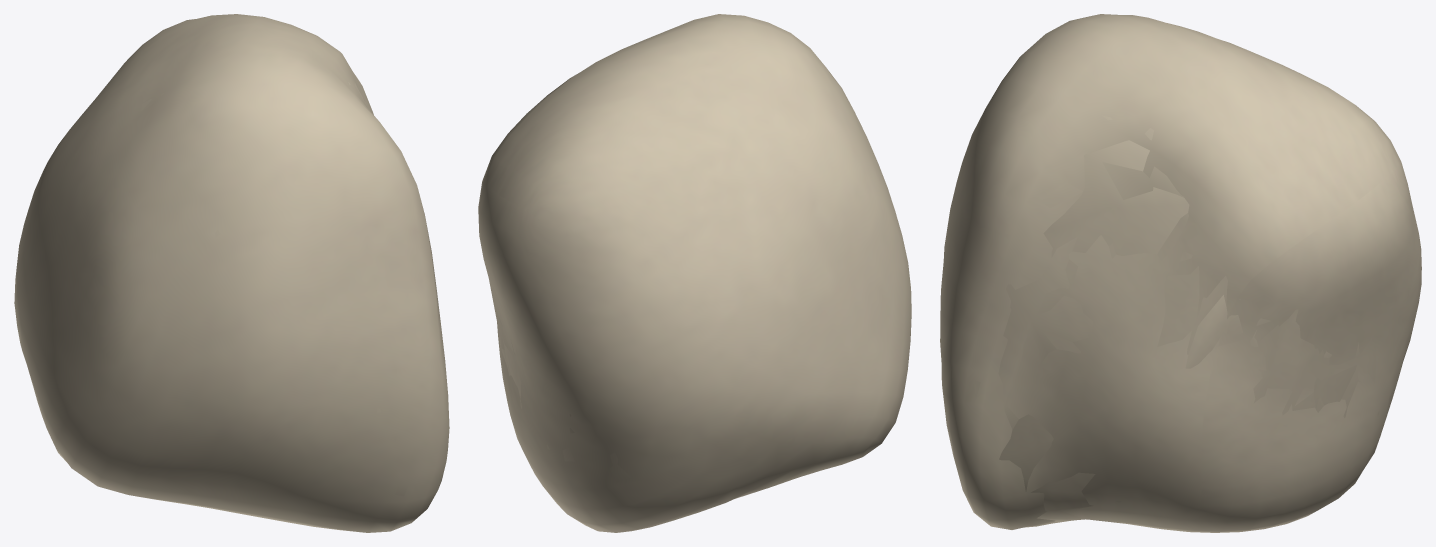
File: R carpale tertium.fbx
The picture shows the model from 3 angles, left to right: view 1: azimuth 30°, elevation 25°; view 2: azimuth 150°, elevation 25°; view 3: azimuth 270°, elevation 25°; orthographic projection. The views are drawn at different scales.
Visible parts, largest first — view 1: R carpale tertium high; view 2: R carpale tertium high, R carpale tertium; view 3: R carpale tertium high, R carpale tertium, R carpale tertium low.
Boxes of the visible parts, x1,y1,x2,y2 form: R carpale tertium high: [14, 14, 449, 532]; R carpale tertium high: [478, 14, 911, 532]; R carpale tertium: [489, 94, 797, 482]; R carpale tertium high: [940, 14, 1421, 532]; R carpale tertium: [973, 79, 1408, 526]; R carpale tertium low: [999, 115, 1360, 523].
Size of the model in its own units: 1.74 by 2.05 by 1.92.
1 material, 1 textured.
